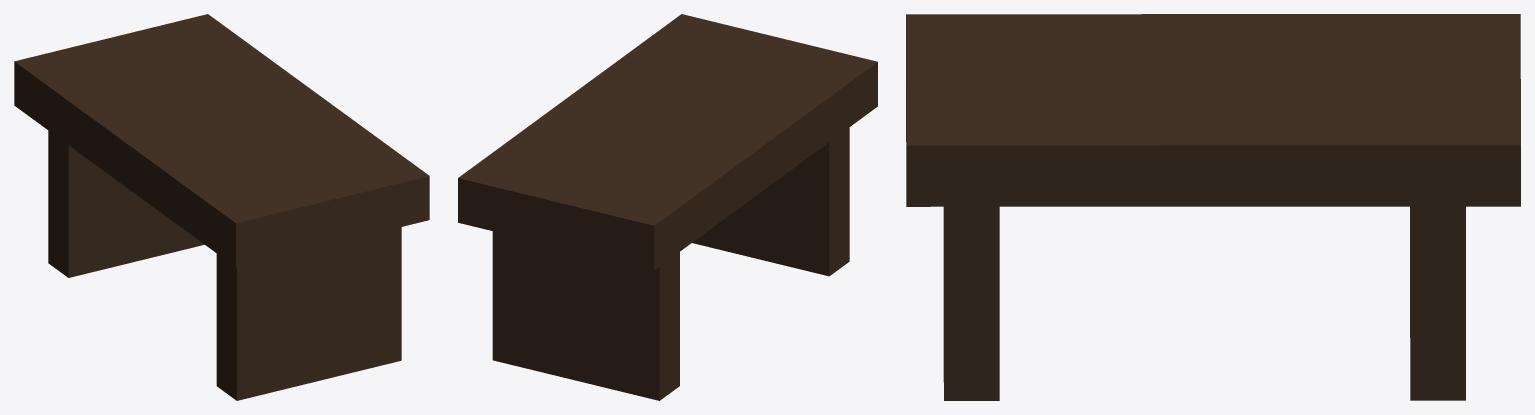
Rendered from bench_2_mat.fbx.
3 views of the same model, side by side, from view 1: azimuth 30°, elevation 25°; view 2: azimuth 150°, elevation 25°; view 3: azimuth 270°, elevation 25° (orthographic). The views are drawn at different scales.
Visible parts, largest first — view 1: bench_2_mat; view 2: bench_2_mat; view 3: bench_2_mat.
Boxes of the visible parts, box(x1,y1,x2,y2) form: bench_2_mat: box(14, 14, 429, 400); bench_2_mat: box(458, 14, 877, 400); bench_2_mat: box(906, 14, 1520, 400).
Size of the model in its own units: 19.28 by 18.12 by 38.08.
